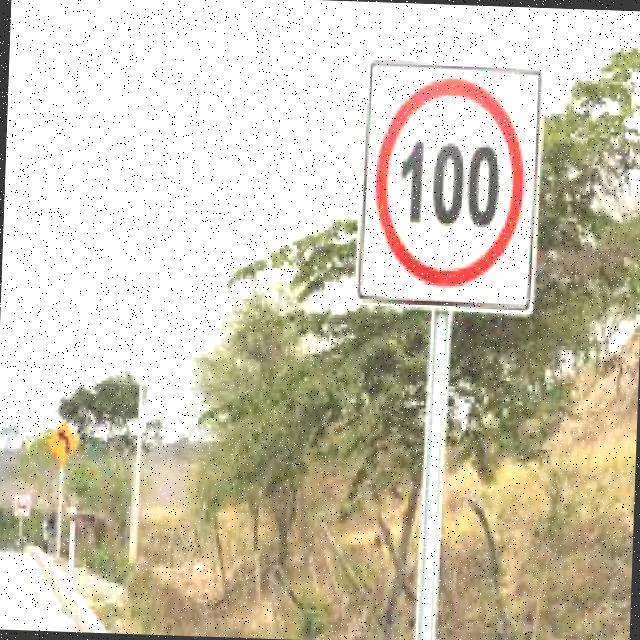Ograniczenie predkosci do 100: (376, 93, 526, 279)
